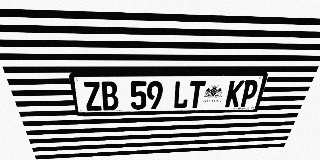5: (130, 81, 147, 110)
9: (147, 81, 163, 109)
B: (100, 81, 119, 110)
K: (225, 80, 245, 107)
L: (173, 81, 190, 109)
P: (239, 80, 260, 107)
T: (188, 81, 206, 108)
Z: (82, 81, 103, 111)
